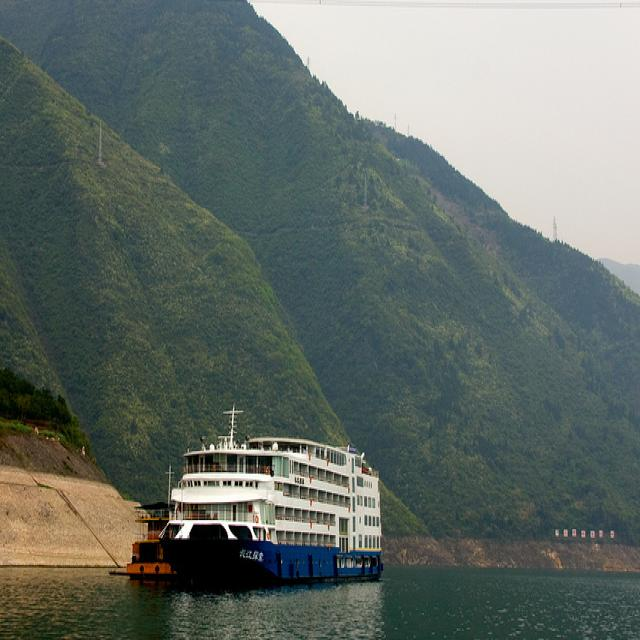passenger ship: (161, 391, 385, 583)
